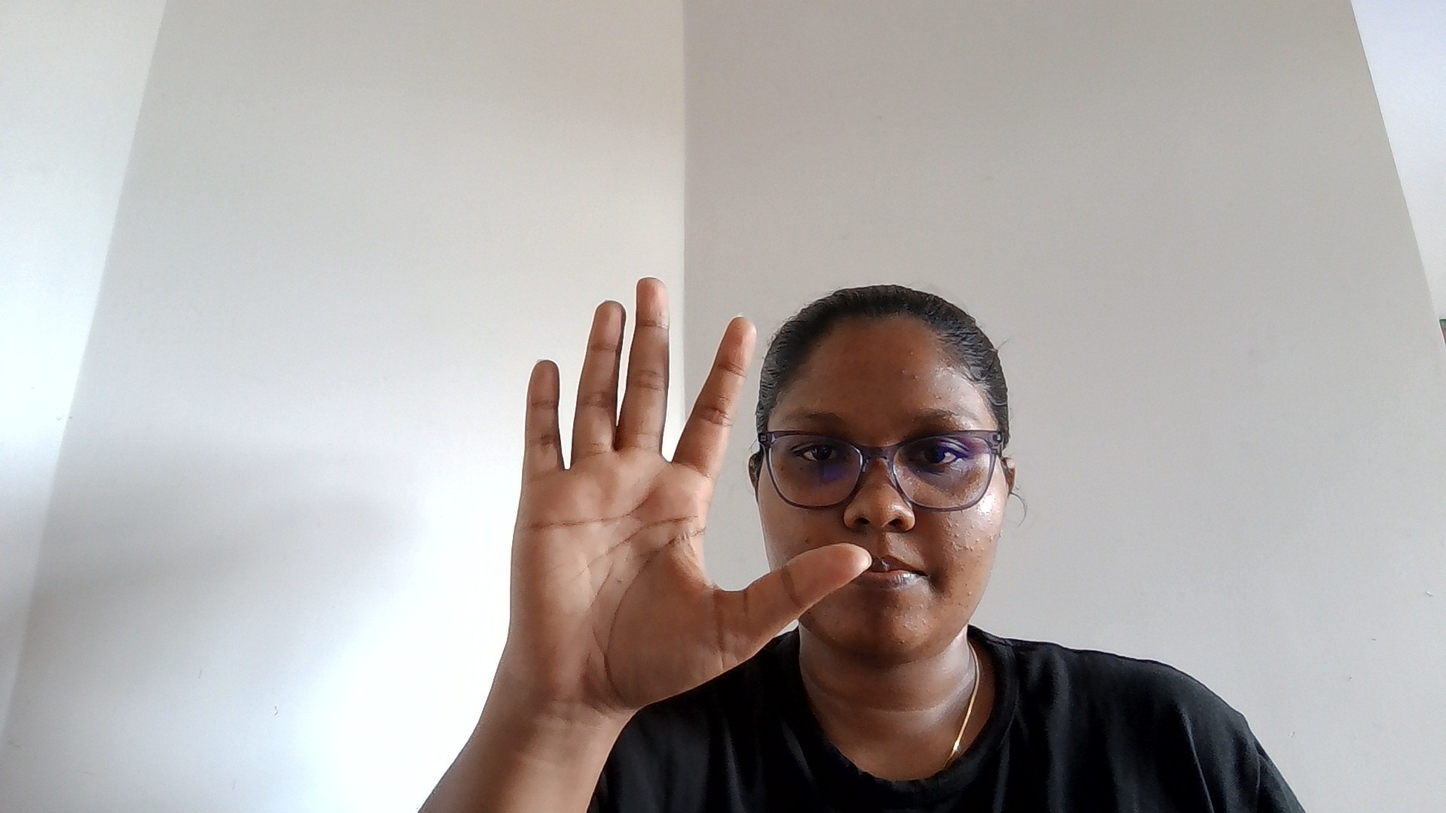Hello: (478, 223, 867, 760)
